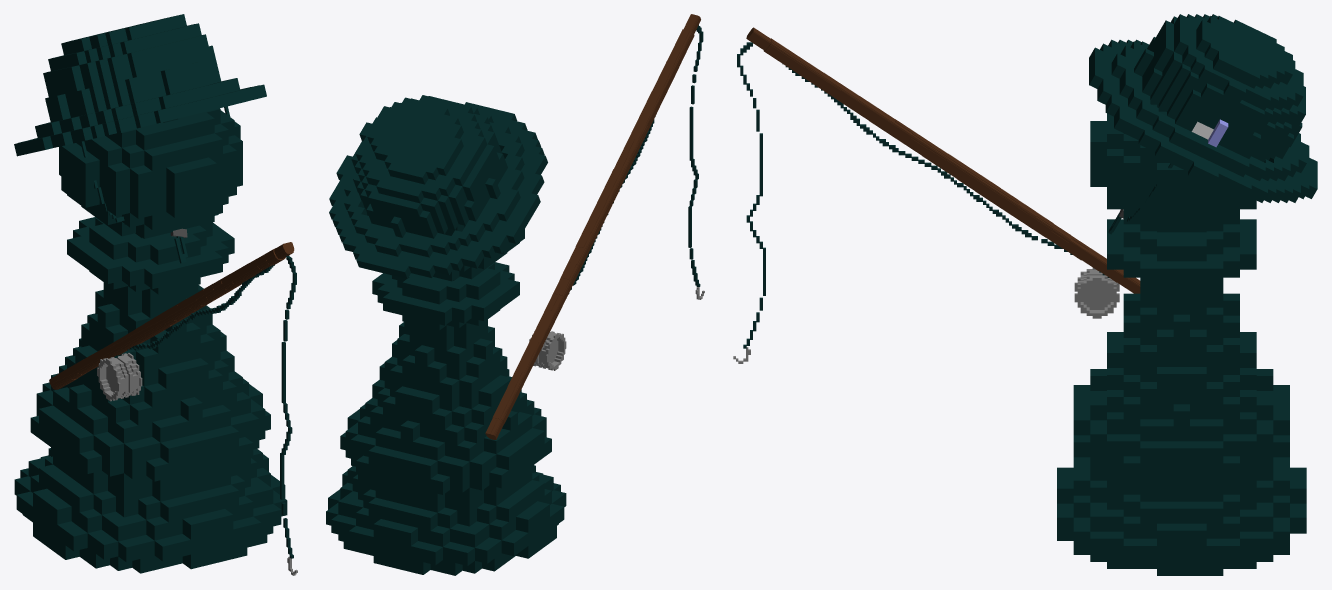
Rendered from FishermanFix.fbx.
3 renders of one model, left to right at view 1: azimuth 30°, elevation 25°; view 2: azimuth 150°, elevation 25°; view 3: azimuth 270°, elevation 25°, orthographic. The views are drawn at different scales.
Visible parts, largest first — view 1: Fisherman; view 2: Fisherman; view 3: Fisherman.
Part boxes in pixels (x1,y1,x2,y2): Fisherman: (14,14,297,575); Fisherman: (326,14,704,575); Fisherman: (733,14,1317,575).
Size of the model in its own units: 167 by 364 by 387.
